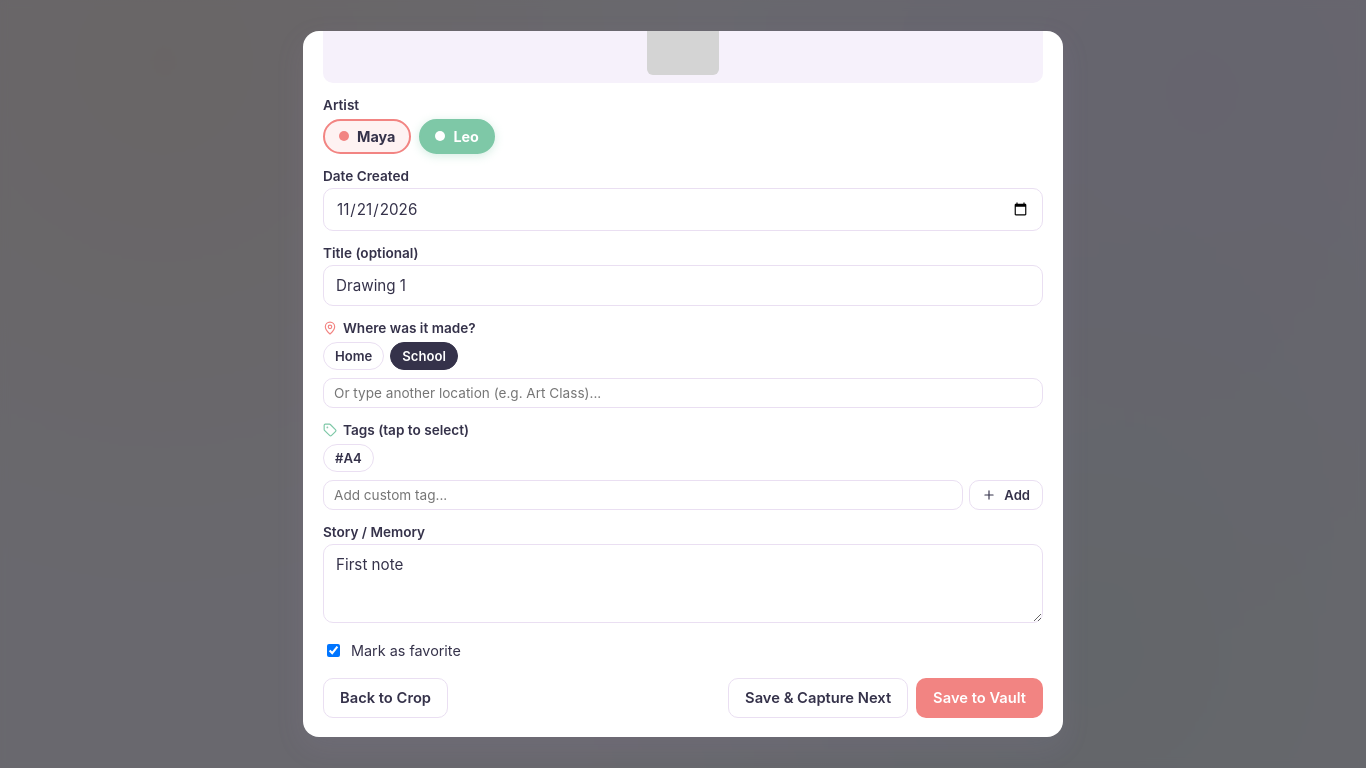
UploadModal Save & Capture Next flow › saves artwork, returns to capture, preserves child and location, and resets per-artwork fields
Earlier steps of the test are not shown.
Later steps or results of the test are not shown.
(page scrolled)
Step 1. Click the button "Save & Capture Next" → point(818, 698), box x1=728 y1=678 x2=908 y2=718
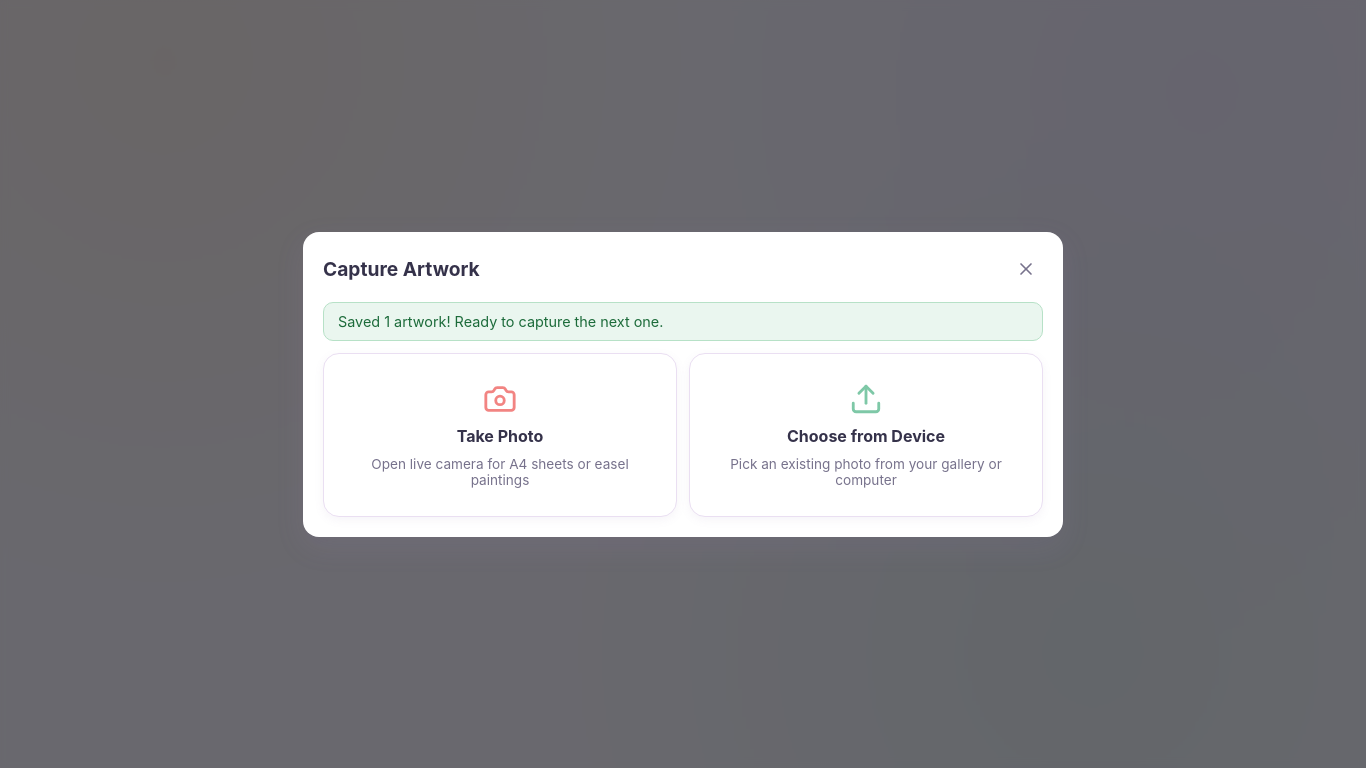
Check: the text "Saved 1 artwork! Ready to capture the next one." is shown, box x1=323 y1=302 x2=1043 y2=340
